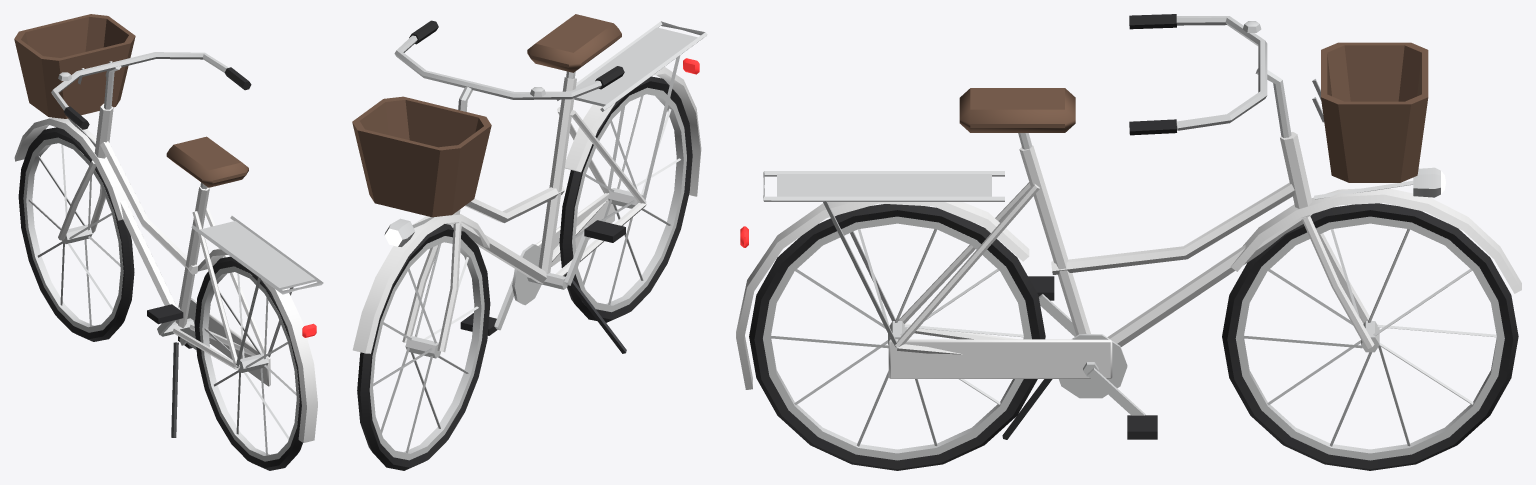
Rendered from Bicicletta.fbx.
The picture shows the model from 3 angles, left to right: view 1: azimuth 30°, elevation 25°; view 2: azimuth 150°, elevation 25°; view 3: azimuth 270°, elevation 25°; orthographic projection. The views are drawn at different scales.
Visible parts, largest first — view 1: Body, Steer, Wheel_F, Wheel_R; view 2: Body, Steer, Wheel_F, Wheel_R; view 3: Body, Steer, Wheel_F, Wheel_R.
Part boxes in pixels (x1,y1,x2,y2): Body: (94, 103, 323, 442); Steer: (14, 14, 251, 240); Wheel_F: (18, 127, 134, 341); Wheel_R: (194, 256, 302, 470); Body: (447, 14, 707, 353); Steer: (352, 20, 624, 353); Wheel_F: (357, 224, 490, 470); Wheel_R: (559, 76, 692, 322); Body: (736, 88, 1312, 439); Steer: (1129, 14, 1521, 348); Wheel_F: (1222, 203, 1518, 470); Wheel_R: (749, 204, 1045, 470).
Size of what is drawn, in the model's own units: 0.616 by 1.06 by 1.83.
